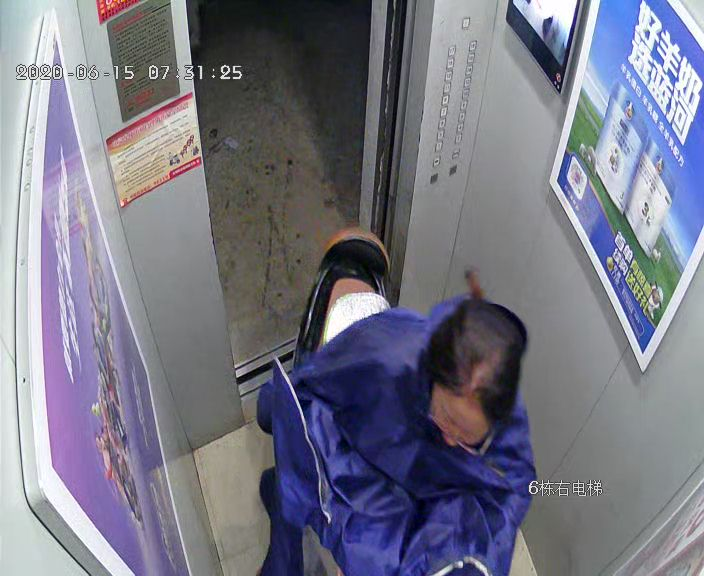Electric-bicycle: (291, 232, 409, 576)
